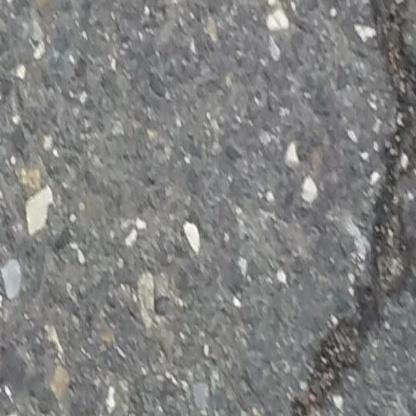Cracks: (285, 0, 416, 416)
